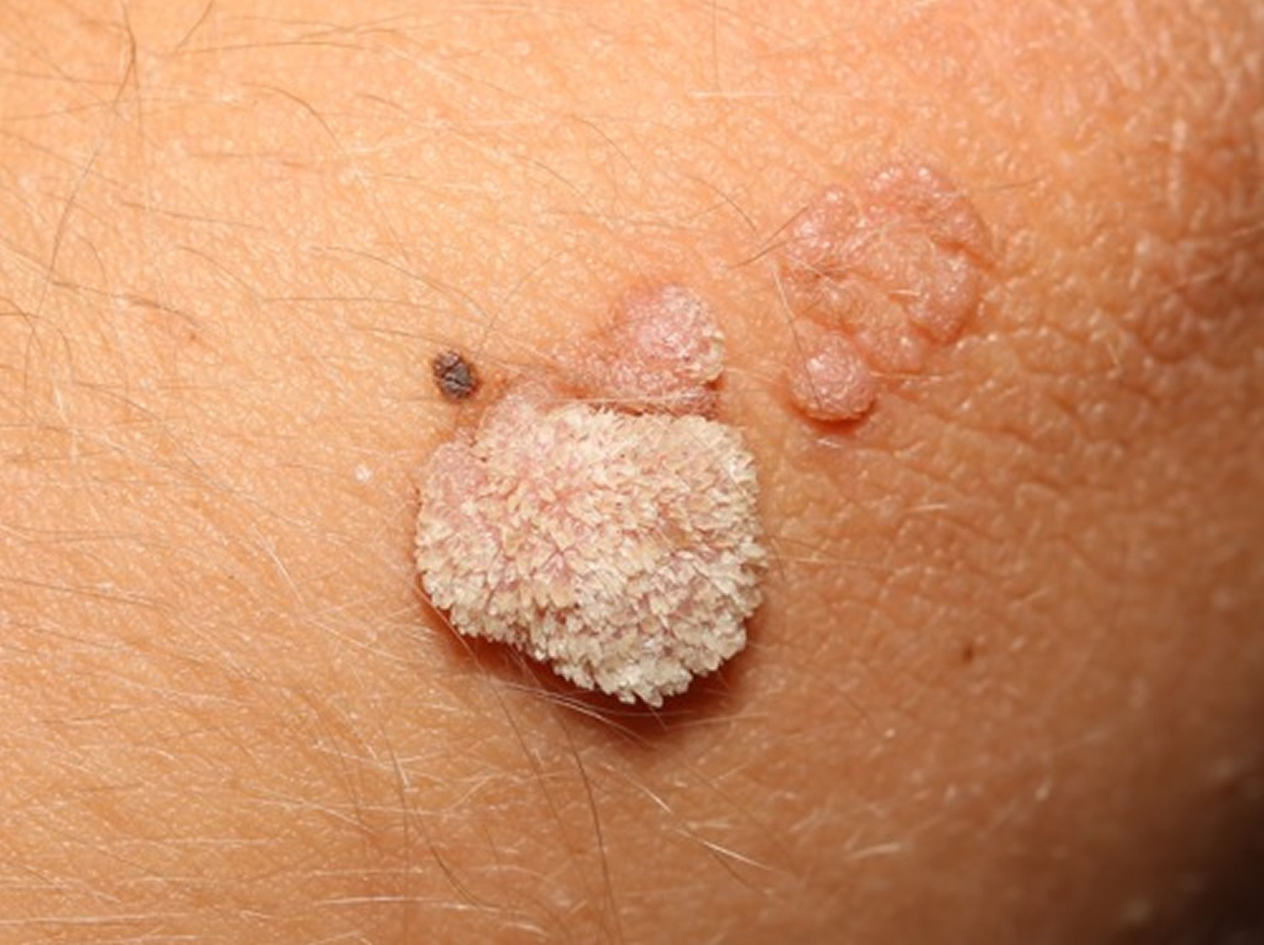Warts: (385, 334, 798, 736), (750, 157, 983, 438)
